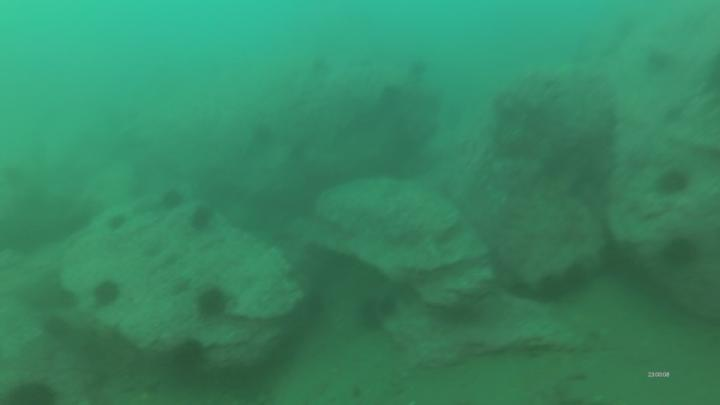echinus: (358, 287, 392, 325), (198, 292, 229, 319), (663, 239, 693, 266), (13, 386, 53, 405), (174, 340, 202, 367), (662, 169, 685, 193), (96, 286, 114, 306), (163, 191, 181, 209), (193, 212, 215, 226)
